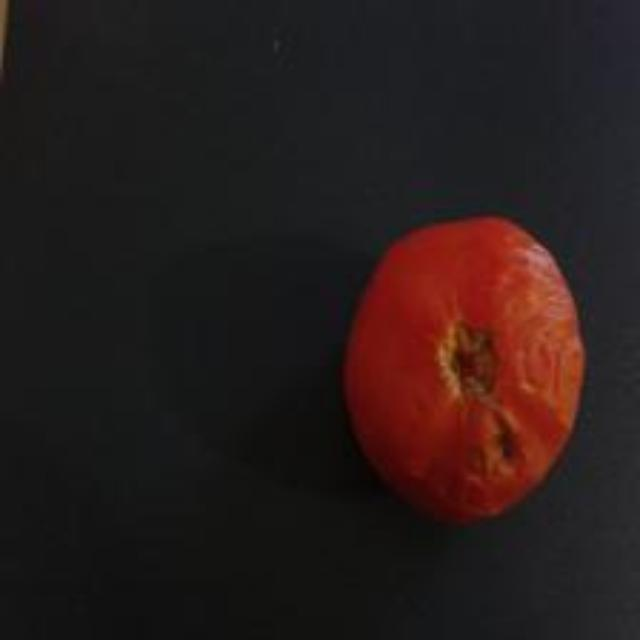defect: (338, 210, 590, 529)
